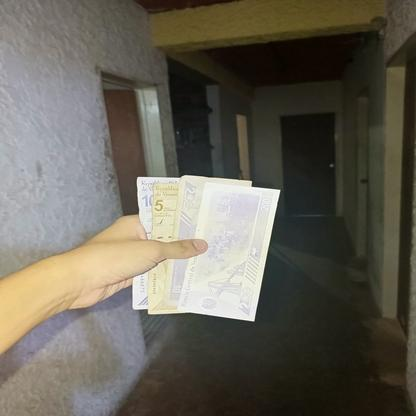five-front-vef: (148, 183, 186, 313)
ten-back-vef: (164, 174, 254, 306), (132, 175, 182, 310)
two_hundred-back-vef: (180, 183, 281, 322)
